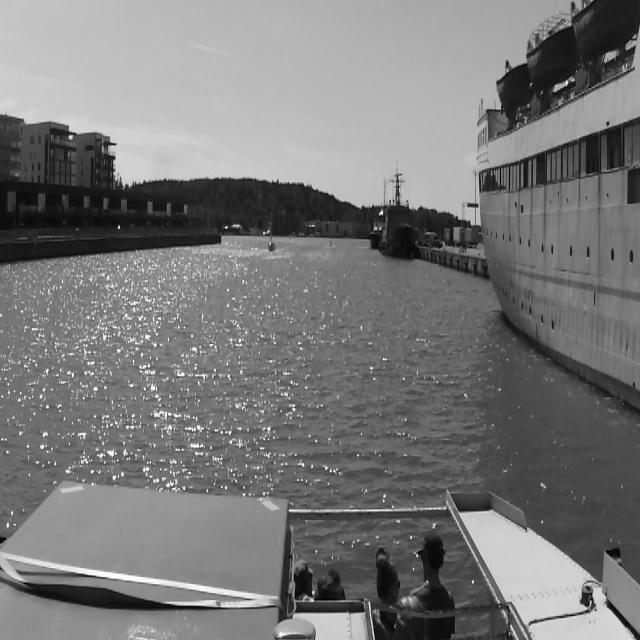ship: (470, 0, 640, 425), (379, 156, 418, 266), (368, 172, 392, 252), (266, 191, 278, 254), (327, 239, 333, 251)
